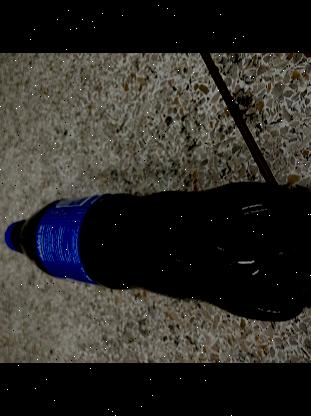Plastic Bottle: (0, 165, 311, 329)
